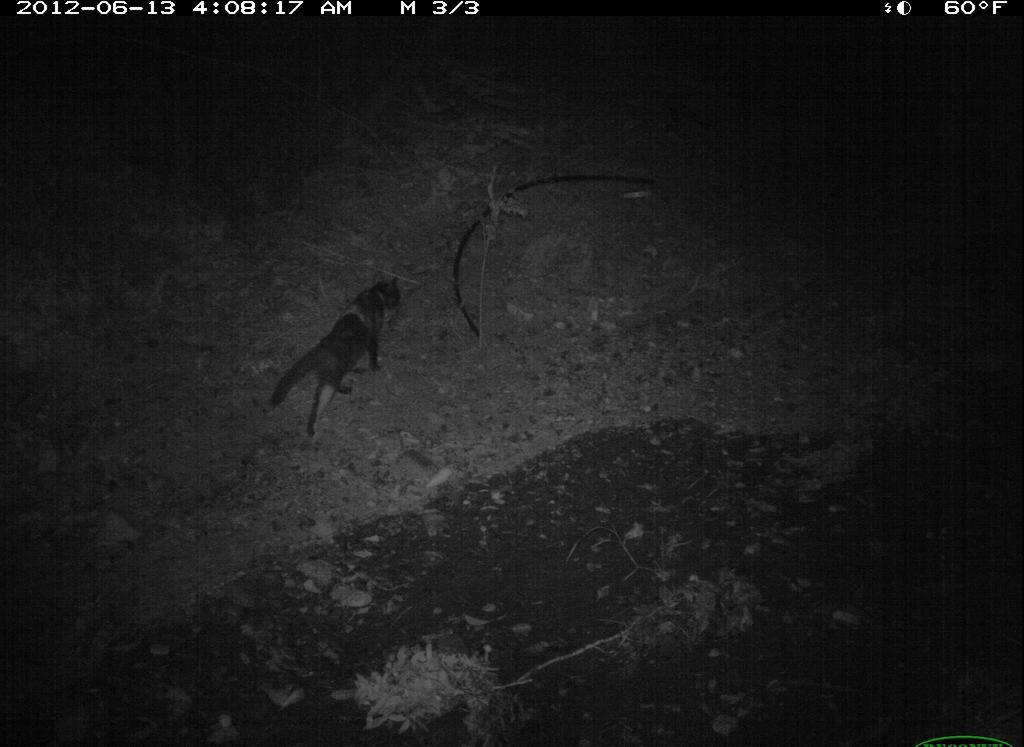cat: (272, 272, 422, 460)
